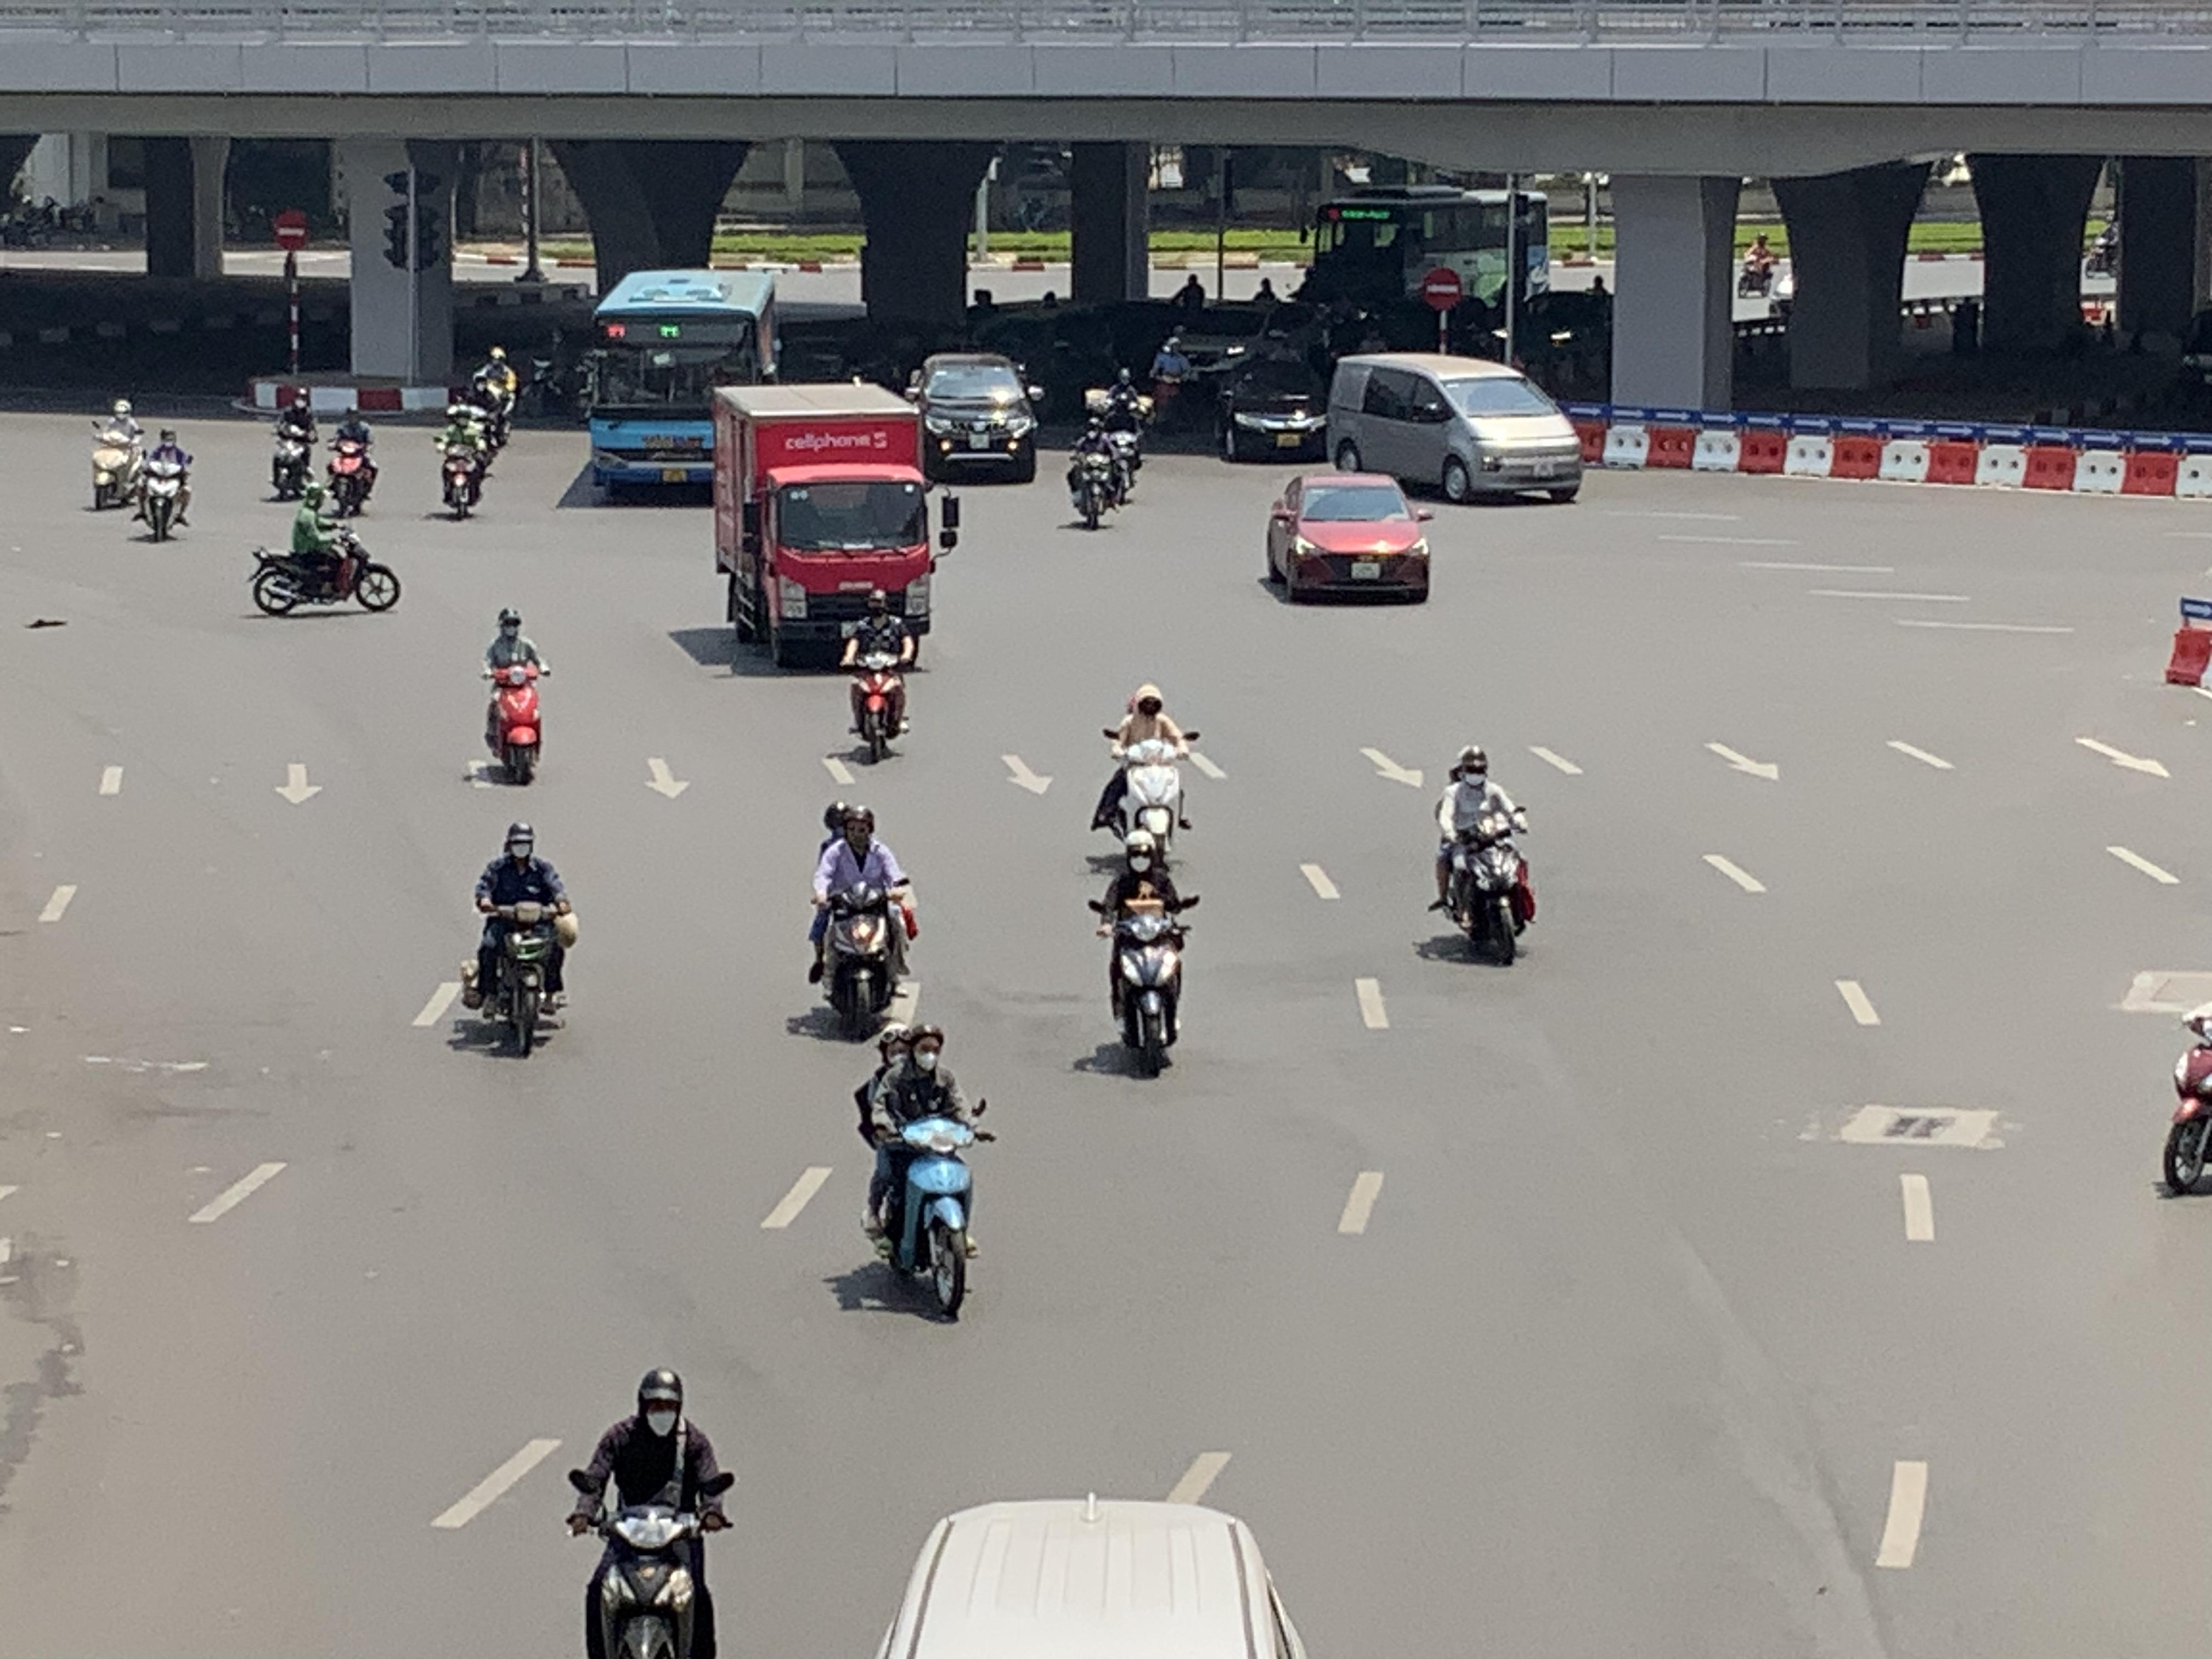BSV: (1352, 561, 1379, 579)
bus: (583, 265, 787, 504)
car: (812, 1495, 1379, 1659), (1322, 354, 1583, 505), (1263, 469, 1433, 605), (913, 352, 1042, 484)
motorbike: (566, 1366, 733, 1659), (859, 1021, 991, 1323), (1090, 826, 1198, 1079), (462, 821, 575, 1058), (808, 803, 916, 1042), (1432, 744, 1534, 967), (247, 484, 399, 615), (1092, 683, 1197, 863), (477, 606, 549, 786), (841, 589, 913, 765), (2161, 967, 2212, 1199), (132, 425, 193, 542), (1064, 413, 1123, 530), (435, 401, 491, 519), (89, 397, 145, 511), (324, 404, 378, 516), (1097, 380, 1148, 498), (268, 387, 319, 502), (470, 345, 517, 453)
truck: (709, 380, 956, 667)
